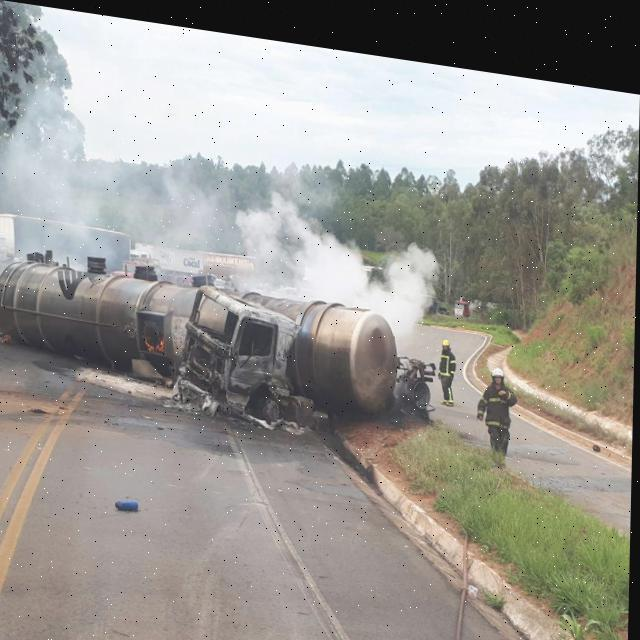Fire: (143, 332, 168, 348)
